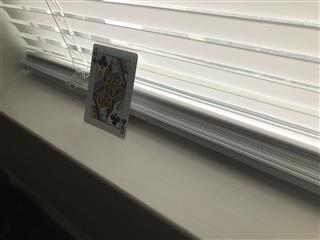QueenOfClubs: (83, 42, 139, 140)
